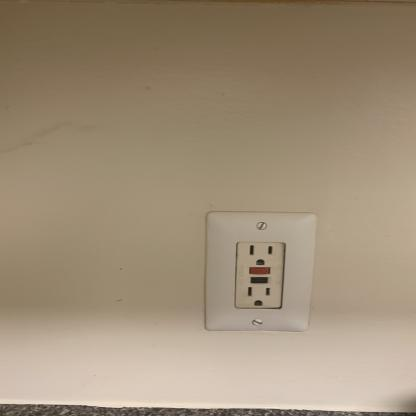OUTLET: (204, 210, 313, 332)
